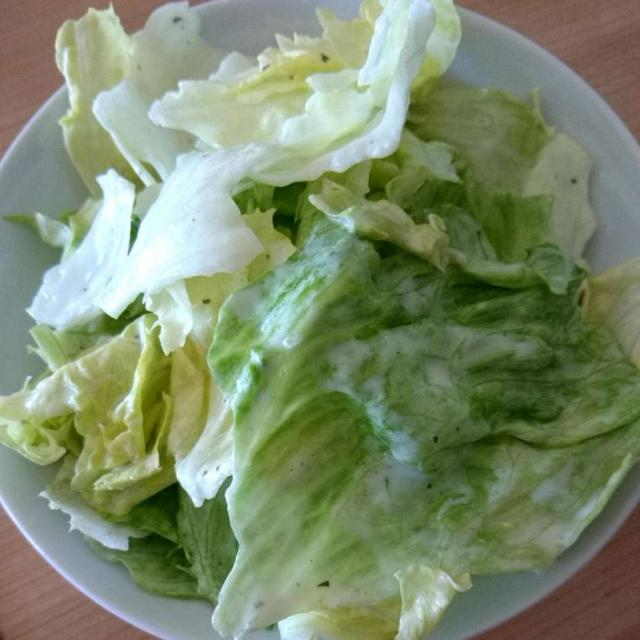french-salad-dressing: (152, 130, 542, 576)
salad-leaf-salad-green: (31, 27, 618, 627)
